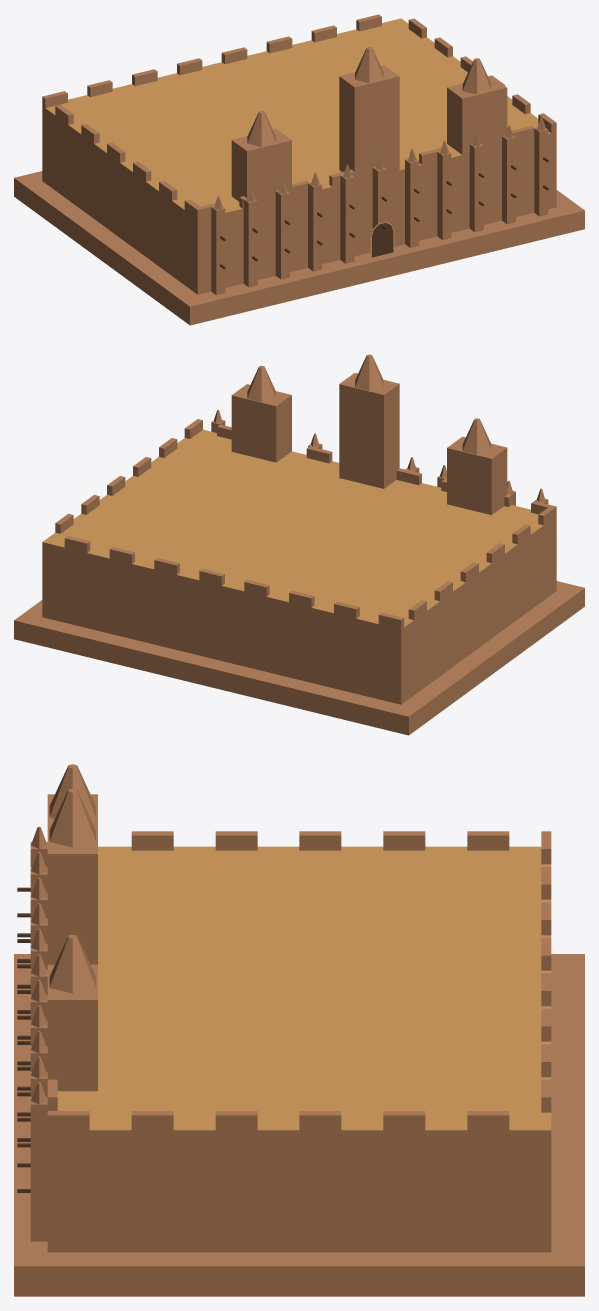
File: mosquee_banco.glb
The picture shows the model from 3 angles, top to bottom: view 1: azimuth 30°, elevation 25°; view 2: azimuth 150°, elevation 25°; view 3: azimuth 270°, elevation 25°; orthographic projection. The views are drawn at different scales.
Visible parts, largest first — view 1: mosquee_banco; view 2: mosquee_banco; view 3: mosquee_banco.
Boxes of the visible parts, x1=… form: mosquee_banco: x1=14, y1=14, x2=584, y2=325; mosquee_banco: x1=14, y1=354, x2=584, y2=735; mosquee_banco: x1=14, y1=764, x2=584, y2=1296.
Size of the model in its own units: 44 by 23 by 34.
1 material, 1 textured.
